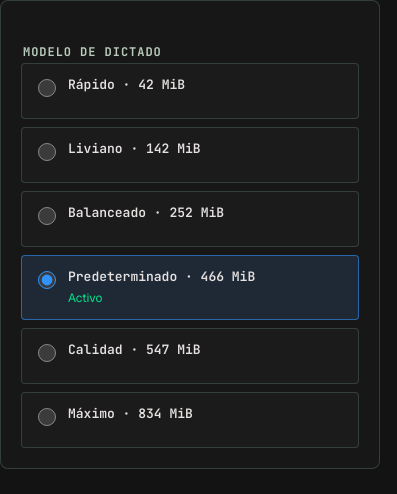
ModelSelector › checks and activates an inactive model only when it is selected
Check: the text "Activo" is shown, box [68,290,102,306]
Check: the text "Instalado" is not shown
Click the radio button labelled "Liviano · 142 MiB" at (47, 152), box [38,143,56,161]
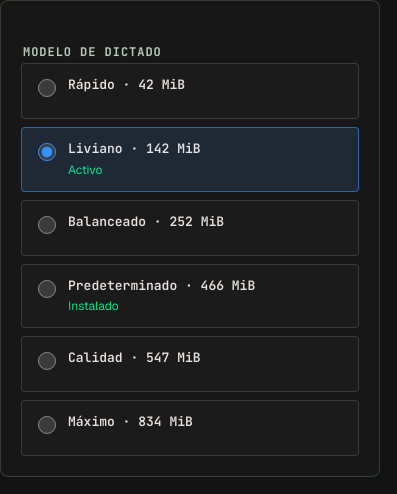
Check: the text "Instalado" is shown, box [68,298,119,314]
Check: the text "Activo" is shown once, box [68,162,102,178]
